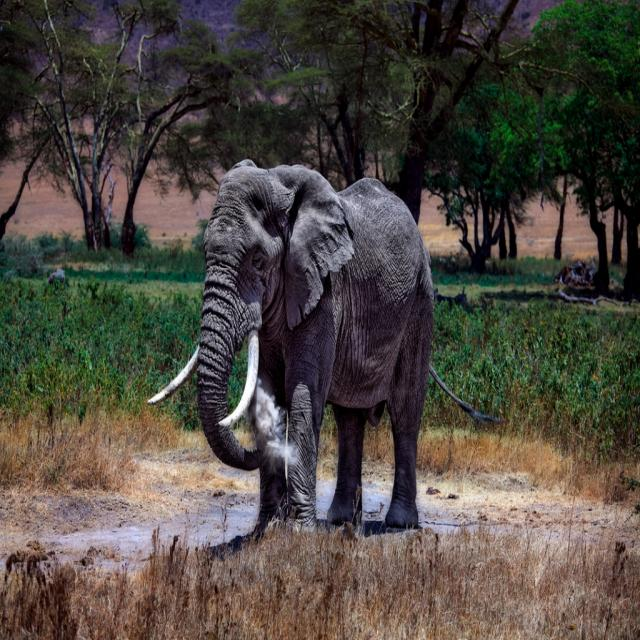elephant: (142, 160, 498, 530)
